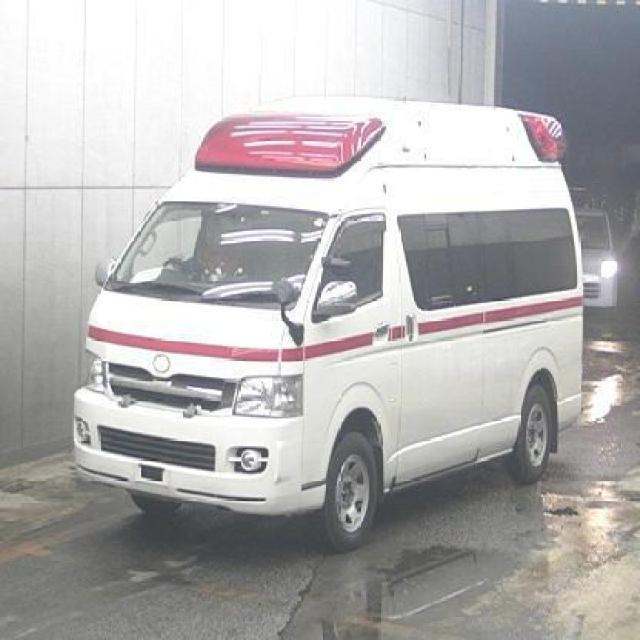emergency: (70, 94, 584, 552)
